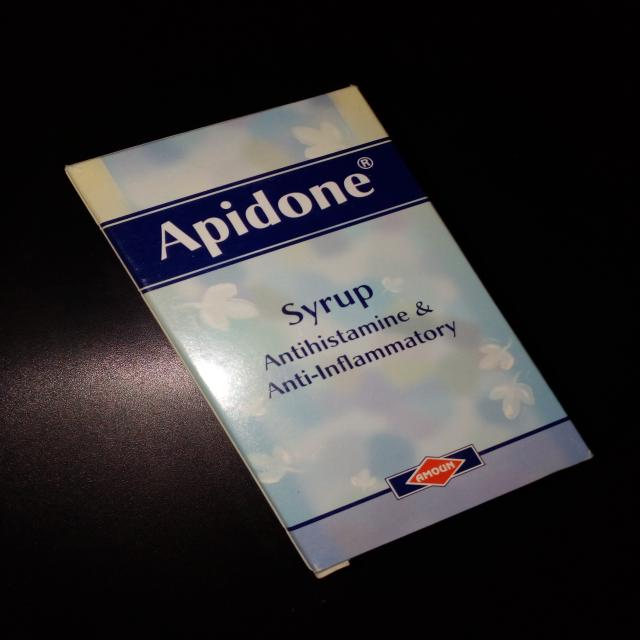Medicine: (60, 80, 599, 582)
